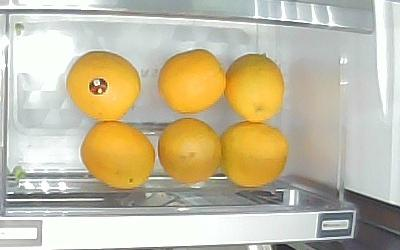orange: (67, 50, 142, 122), (80, 121, 157, 190), (158, 49, 227, 114), (220, 122, 288, 187), (159, 118, 221, 183), (226, 54, 285, 122)
